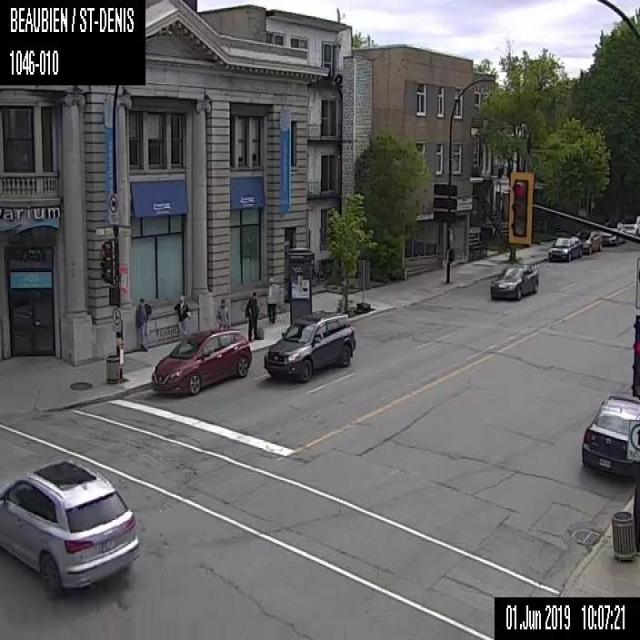pedestrian: (135, 297, 151, 351), (244, 291, 260, 341), (173, 294, 191, 337), (216, 297, 230, 330), (266, 277, 276, 322)
vehicle: (0, 457, 138, 595), (264, 310, 355, 383), (151, 330, 251, 395), (581, 393, 639, 482), (489, 262, 538, 300), (547, 235, 582, 260), (575, 229, 602, 253), (601, 221, 625, 244), (624, 214, 639, 236)
